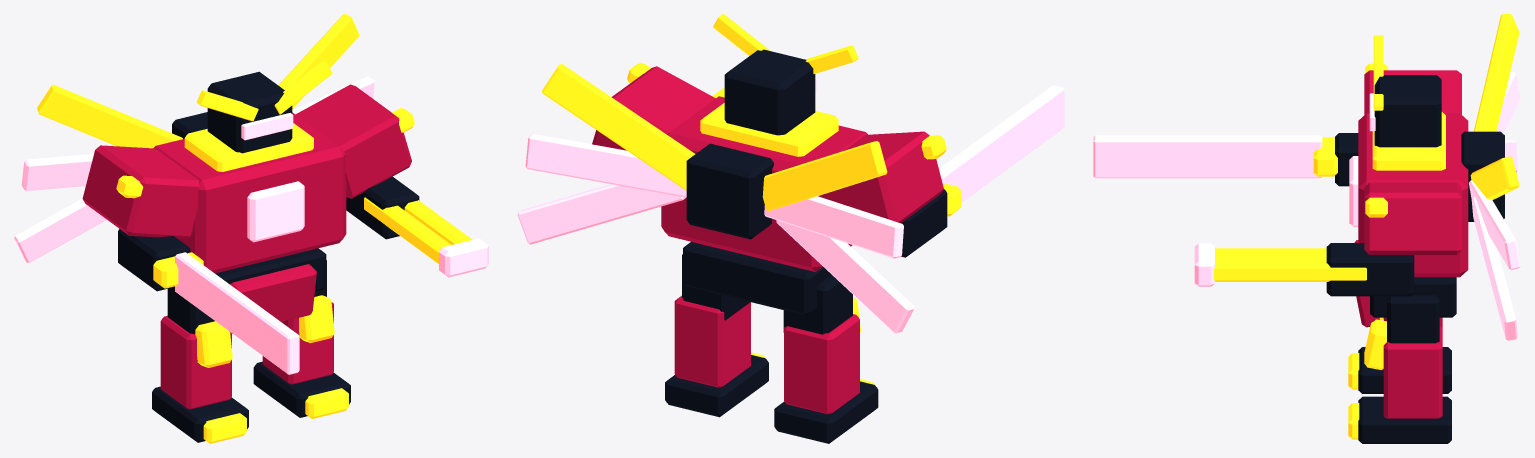
File: boss_titan.glb
The picture shows the model from 3 angles, left to right: view 1: azimuth 30°, elevation 25°; view 2: azimuth 150°, elevation 25°; view 3: azimuth 270°, elevation 25°; orthographic projection. The views are drawn at different scales.
Parts seen in each view (by area): view 1: ChestBlock, Pauldron_-1, Pauldron_1, SwordBlade, Shin_-1, WingBinder_-1_0, HeadHelm, PelvisSkirtF, ChestCore, CollarGold, WingBinder_-1_2, LArmFore (+22 smaller); view 2: ChestBlock, WingHub, HeadHelm, Pelvis, Shin_-1, WingBinder_1_0, Pauldron_-1, SwordBlade, Shin_1, WingBinder_1_1, WingBinder_1_2, WingBinder_-1_2 (+11 smaller); view 3: SwordBlade, Pauldron_1, ChestBlock, HeadHelm, Shin_1, RArmFore, RBusterBarrel2, Foot_1, WingBinder_-1_0, Thigh_1, CollarGold, WingBinder_1_2 (+15 smaller).
Boxes of the visible parts, bbox=[...] form: ChestBlock: bbox=[153, 112, 346, 273]; Pauldron_-1: bbox=[82, 145, 199, 238]; Pauldron_1: bbox=[295, 84, 411, 198]; SwordBlade: bbox=[175, 252, 299, 374]; Shin_-1: bbox=[160, 315, 231, 409]; WingBinder_-1_0: bbox=[37, 85, 182, 148]; HeadHelm: bbox=[207, 71, 292, 153]; PelvisSkirtF: bbox=[229, 264, 316, 333]; ChestCore: bbox=[247, 181, 304, 242]; CollarGold: bbox=[184, 123, 313, 171]; WingBinder_-1_2: bbox=[14, 198, 106, 262]; LArmFore: bbox=[118, 229, 190, 291]; ChestBlock: bbox=[661, 96, 867, 271]; WingHub: bbox=[686, 143, 773, 239]; HeadHelm: bbox=[724, 49, 815, 135]; Pelvis: bbox=[683, 242, 831, 315]; Shin_-1: bbox=[784, 314, 859, 414]; WingBinder_1_0: bbox=[542, 64, 695, 190]; Pauldron_-1: bbox=[820, 131, 943, 223]; SwordBlade: bbox=[939, 85, 1064, 202]; Shin_1: bbox=[674, 295, 750, 387]; WingBinder_1_1: bbox=[525, 134, 686, 197]; WingBinder_1_2: bbox=[517, 184, 685, 244]; WingBinder_-1_2: bbox=[776, 220, 914, 333]; SwordBlade: bbox=[1093, 135, 1322, 178]; Pauldron_1: bbox=[1364, 182, 1461, 254]; ChestBlock: bbox=[1358, 113, 1468, 277]; HeadHelm: bbox=[1374, 75, 1441, 147]; Shin_1: bbox=[1383, 326, 1442, 418]; RArmFore: bbox=[1326, 243, 1414, 296]; RBusterBarrel2: bbox=[1214, 258, 1366, 281]; Foot_1: bbox=[1358, 396, 1451, 443]; WingBinder_-1_0: bbox=[1473, 14, 1519, 131]; Thigh_1: bbox=[1387, 295, 1439, 343]; CollarGold: bbox=[1372, 112, 1445, 170]; WingBinder_1_2: bbox=[1471, 197, 1517, 340].
Bounding box in the file's own units: 4.18 × 3.71 × 4.2.
